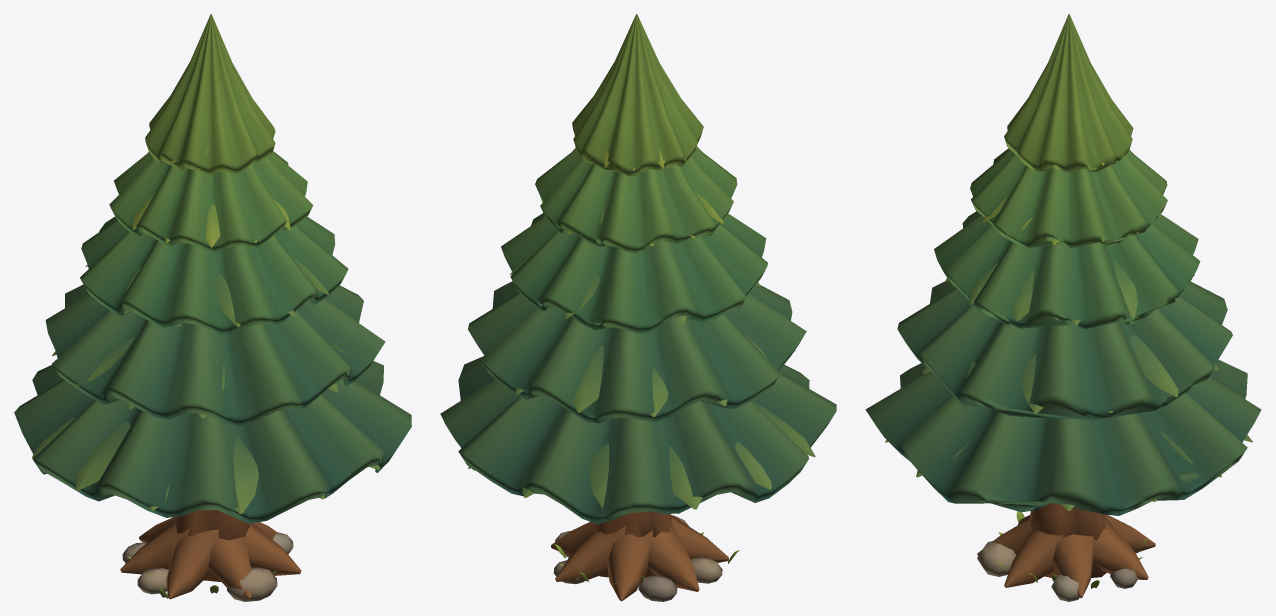
File: prop_tree_pine_v01.glb
3 renders of one model, left to right at view 1: azimuth 30°, elevation 25°; view 2: azimuth 150°, elevation 25°; view 3: azimuth 270°, elevation 25°, orthographic.
Visible parts, largest first — view 1: Plant; view 2: Plant; view 3: Plant.
Part boxes in pixels (x1,y1,x2,y2): Plant: [14, 14, 411, 601]; Plant: [440, 14, 836, 601]; Plant: [865, 14, 1261, 601].
Size of the model in its own units: 2.93 by 4.53 by 2.93.
